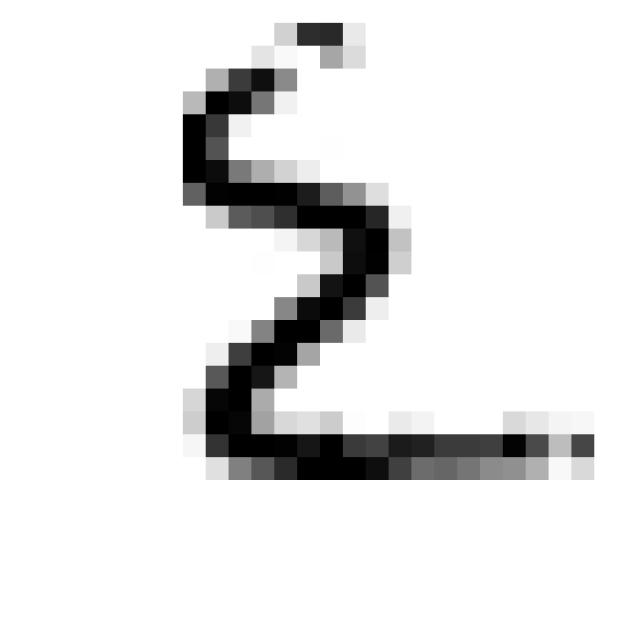4 -four-: (155, 0, 625, 492)
